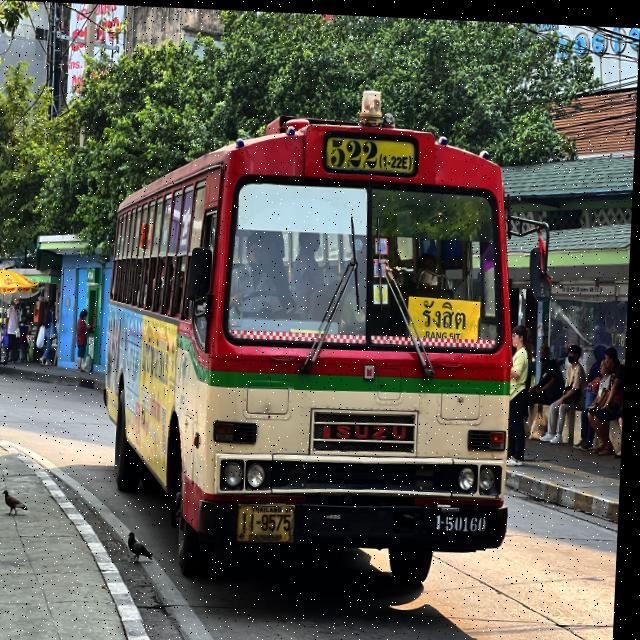BMTA-bus: (90, 72, 541, 604)
Bus-Line-Number: (322, 125, 422, 175)
Destination-Sign-Normal-Expressway: (409, 293, 484, 342)
